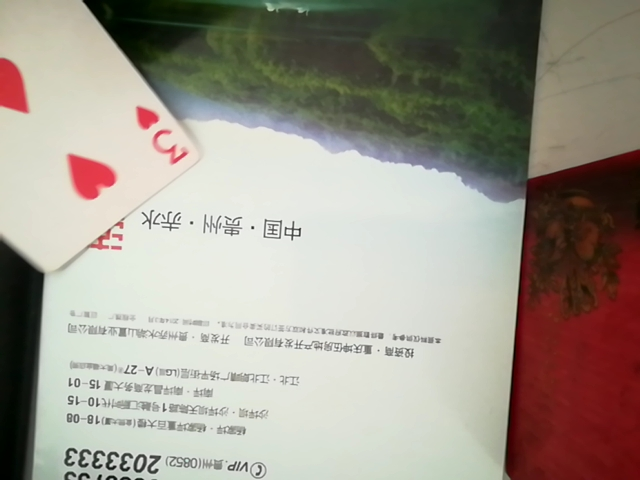hx 3: (1, 2, 199, 279)
